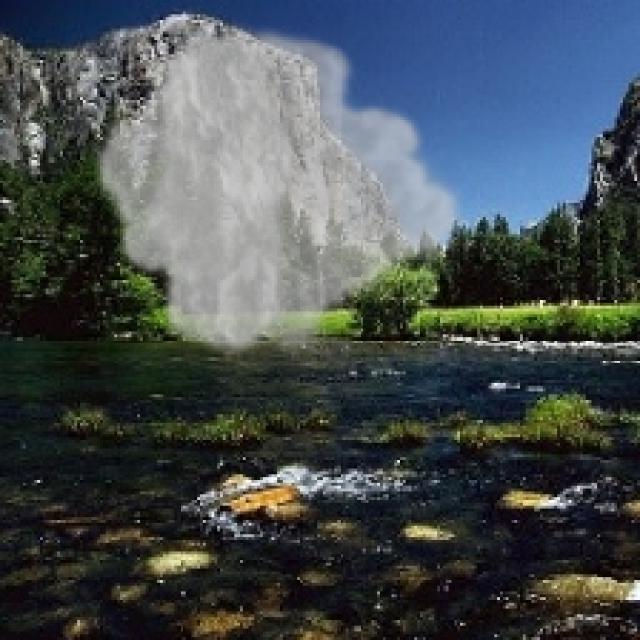smoke: (91, 17, 468, 363)
